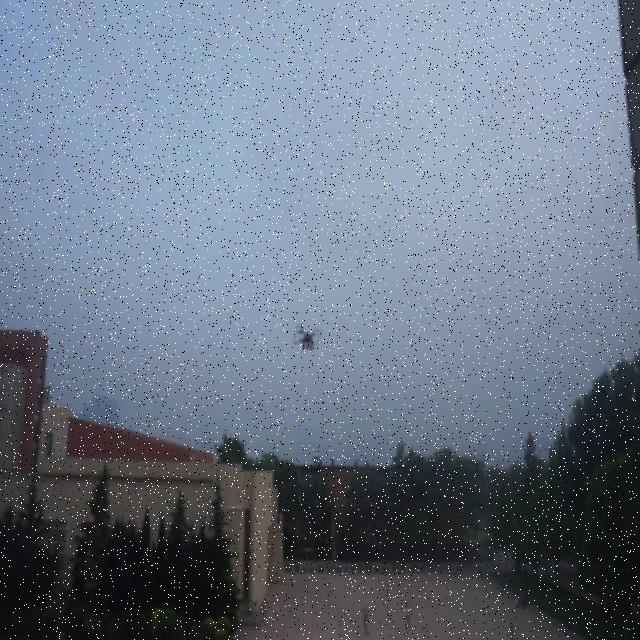UAV: (293, 325, 322, 353)
